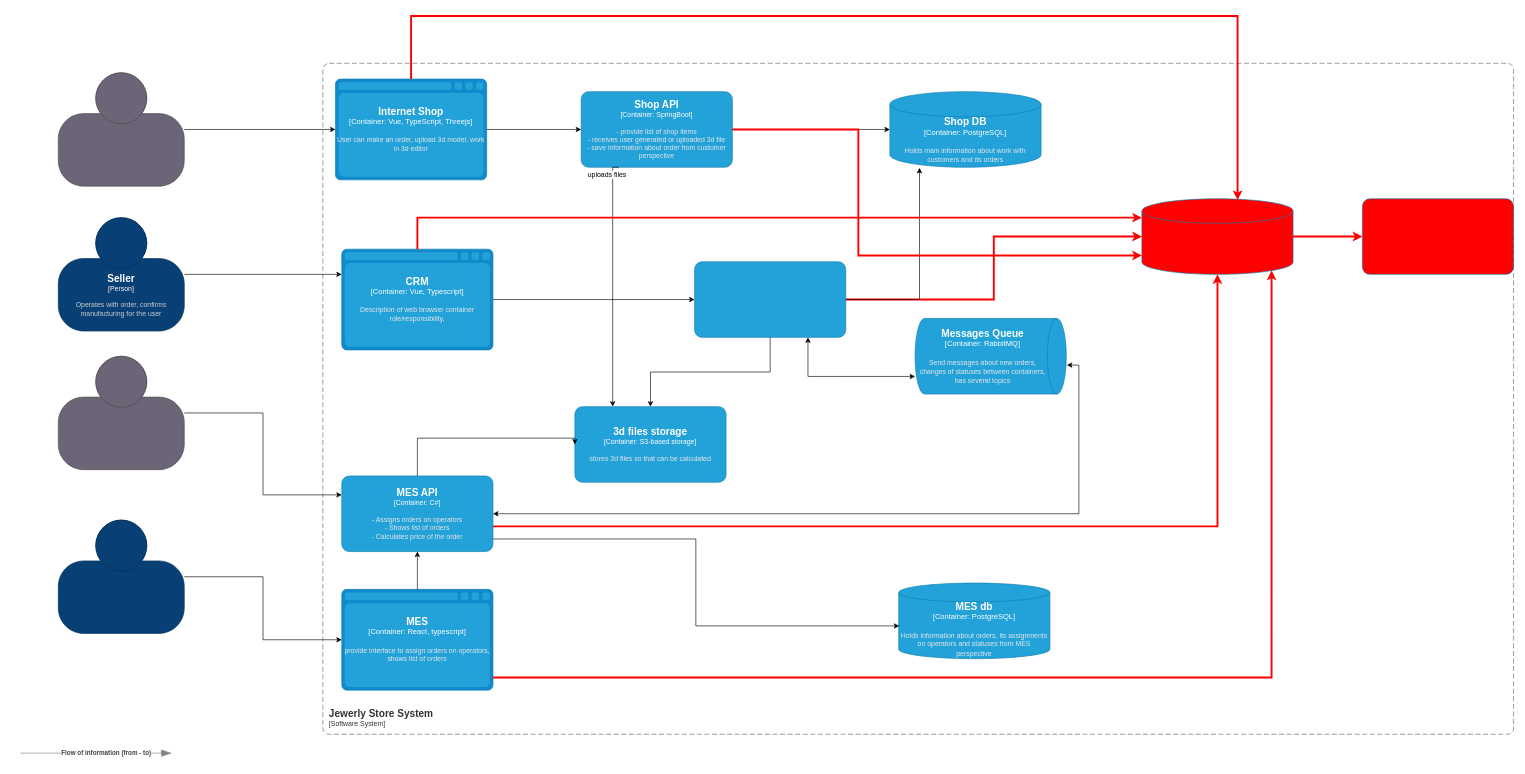
The diagram is 1525 pixels wide and 774 high, and some of its shapes have lost their labels. The centre of each missing label's shape, as x and y in pixels:
"API user [Person] Description of external person." belongs at pixel 121 413.
"CRM API [Container: SpringBoot] Description of container role/responsibility." belongs at pixel 770 299.
"Customer [Person] Description of external person." belongs at pixel 121 129.
"Operator [Person] Takes order in work, manufactures jewerly" belongs at pixel 121 576.
"Визуализация трейсинга [Container: Jaeger-UI]" belongs at pixel 1438 236.
"Трейсинг [Container: Jaeger]" belongs at pixel 1217 236.
